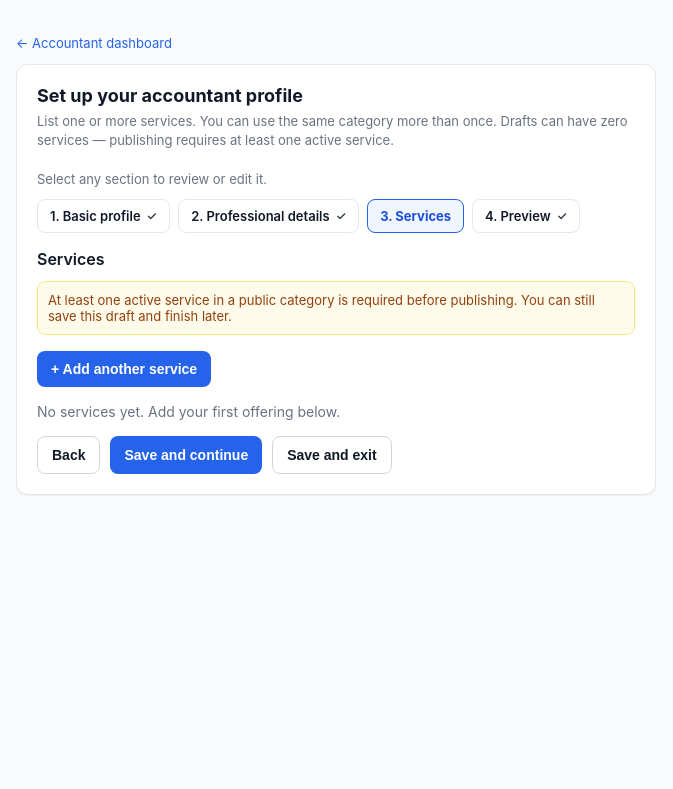
Test case: duplicate create submissions are prevented while saving
Click the button "+ Add another service": (124, 369) top-left (37, 351), bottom-right (211, 387)
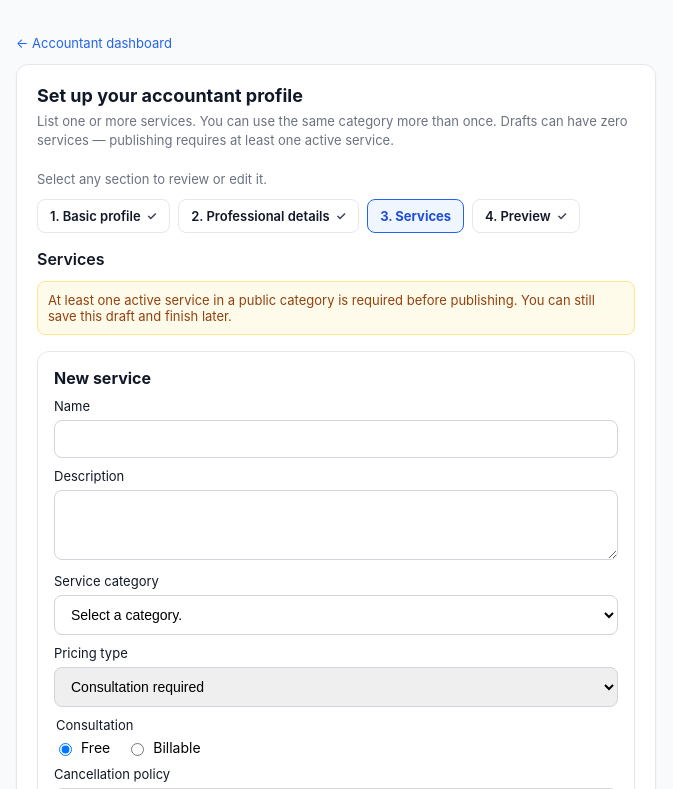
Expected: the dropdown labelled "Service category" is enabled, top-left (54, 595), bottom-right (618, 635)
In the field labelled "Name": (336, 439) top-left (54, 420), bottom-right (618, 458), type "New offering"
In the text box labelled "Description": (336, 525) top-left (54, 490), bottom-right (618, 560), type "Details"
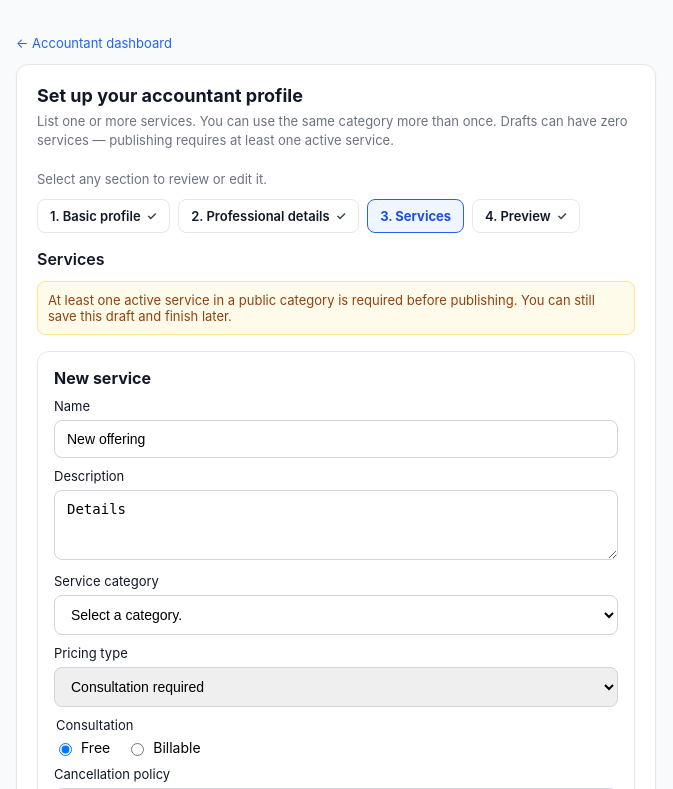
Select "Bookkeeping" in the dropdown labelled "Service category": (336, 615) top-left (54, 595), bottom-right (618, 635)
(page scrolled)
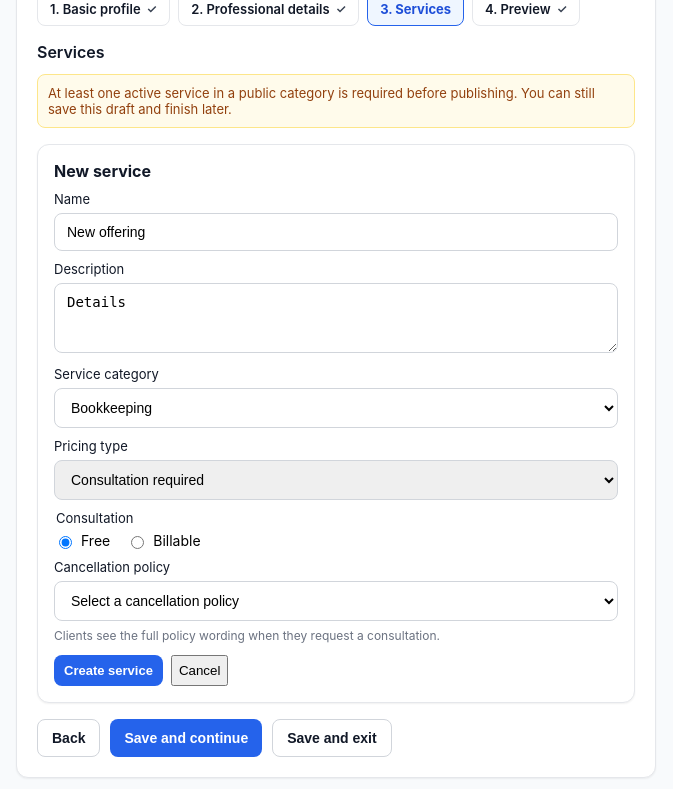
Select "The consultation fee is non-refundable after booking." in the dropdown labelled "Cancellation policy": (336, 601) top-left (54, 581), bottom-right (618, 621)
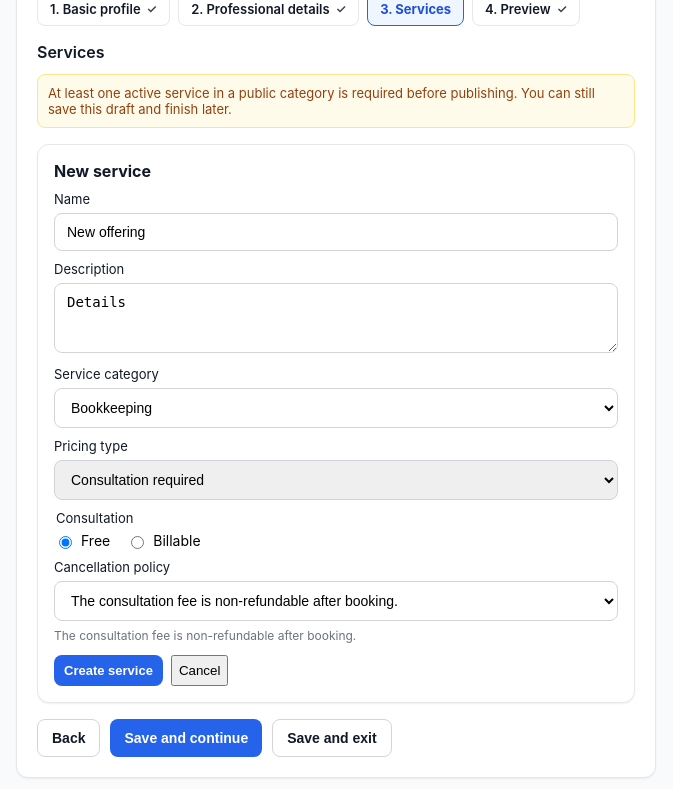
Click the button "Create service": (108, 670) top-left (54, 655), bottom-right (163, 686)
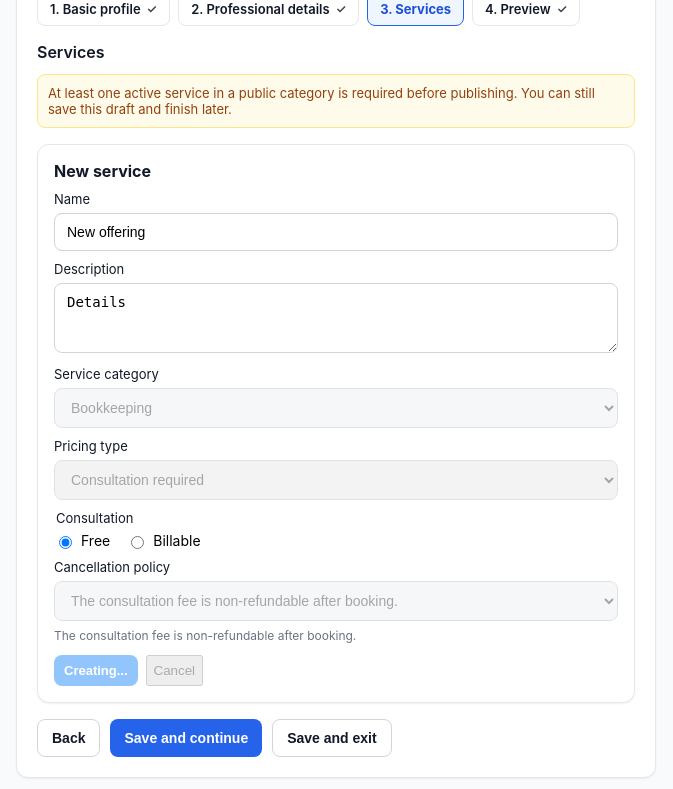
Expected: the button "Creating..." is disabled
Click the button "Creating...": (96, 670) top-left (54, 655), bottom-right (138, 686)
(page scrolled)
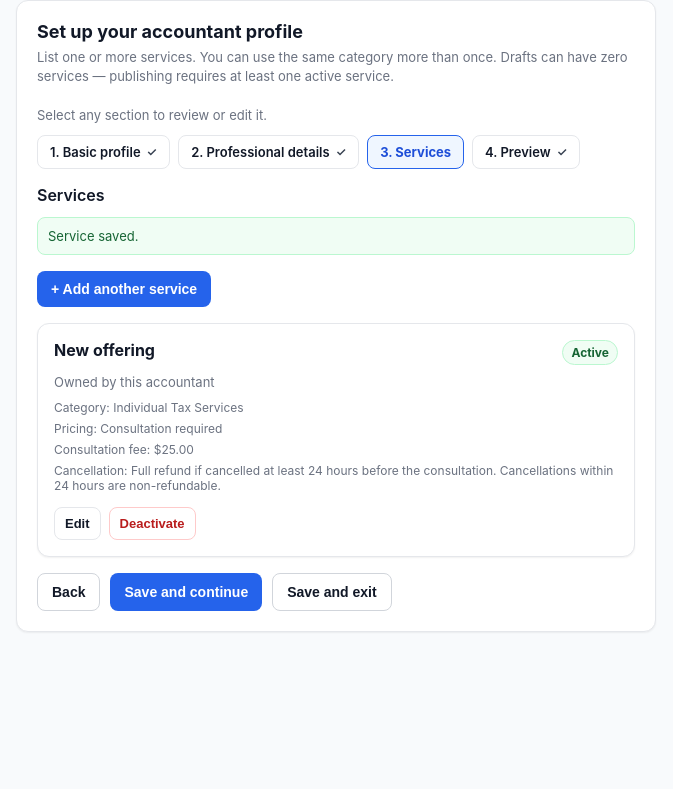
Expected: the text "New offering" is shown, top-left (54, 340), bottom-right (155, 365)
